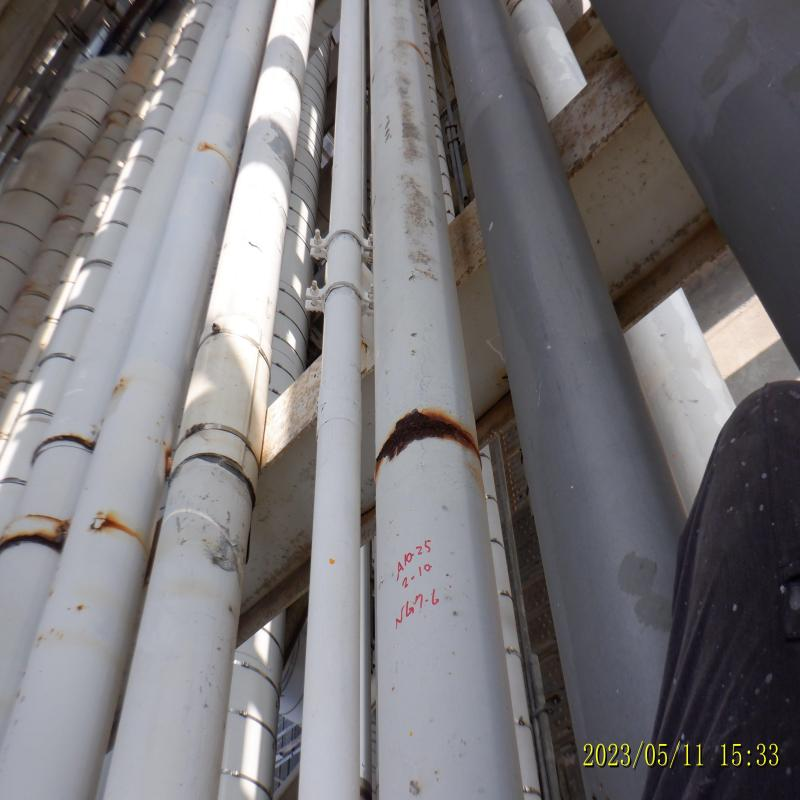corrosion: (378, 423, 469, 438), (7, 535, 62, 546)
